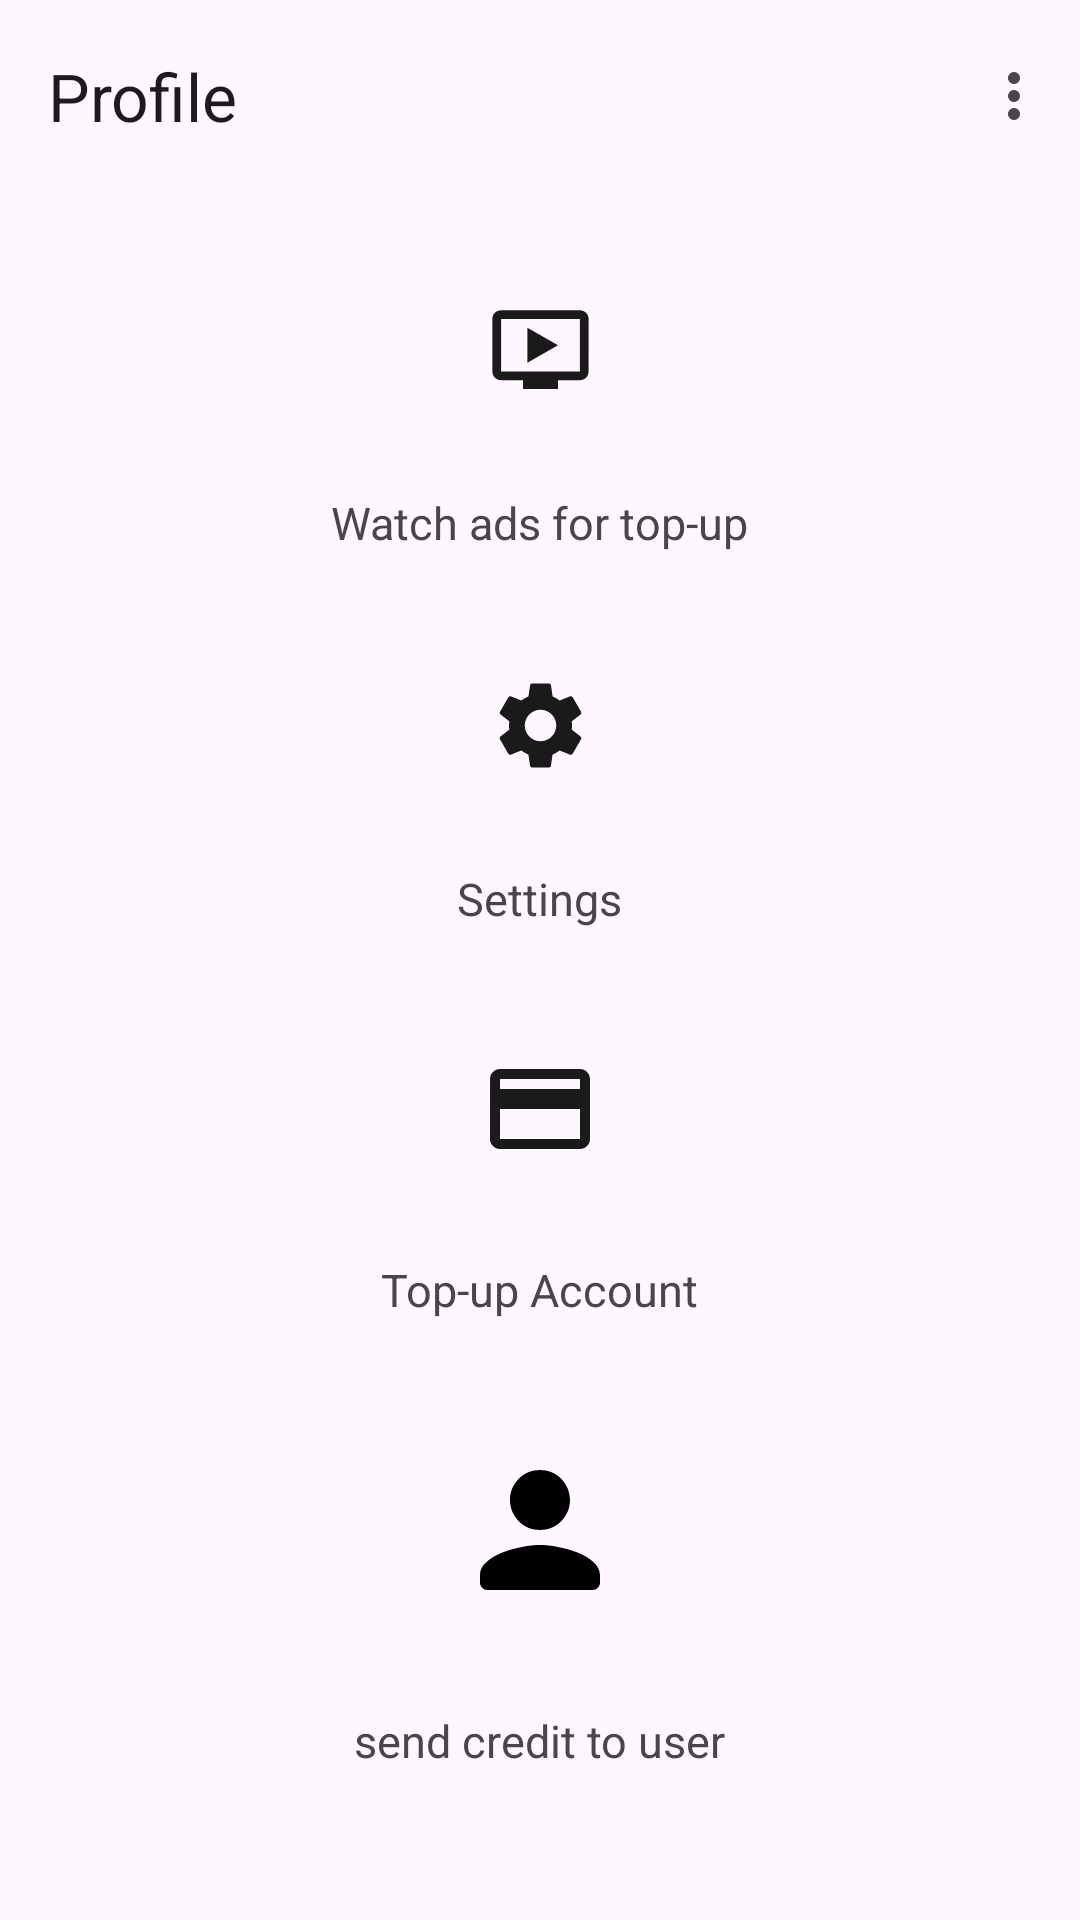

Where to tap for icons on this 1080×1920 app screen, as (x,y):
add credit: (540,1109)
person: (540,1530)
